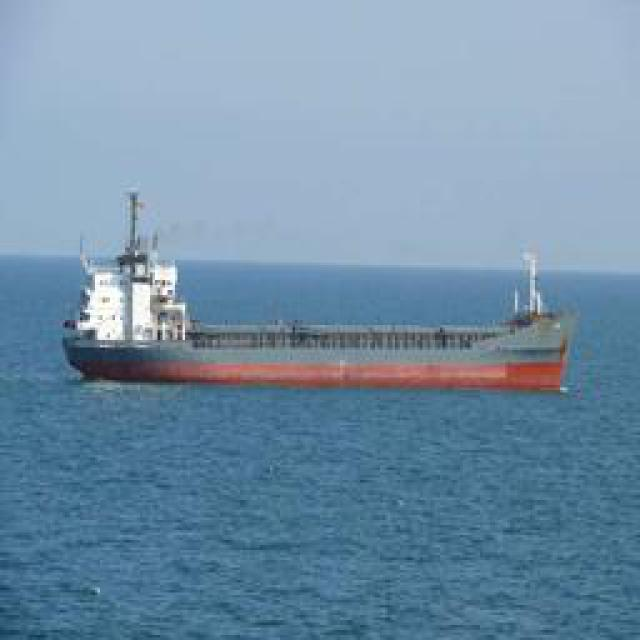Ship: (63, 202, 588, 400)
